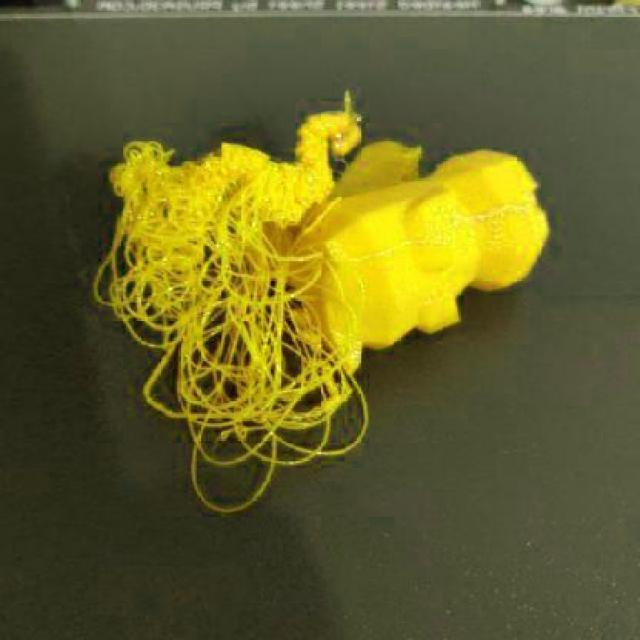spaghetti: (93, 89, 370, 514)
